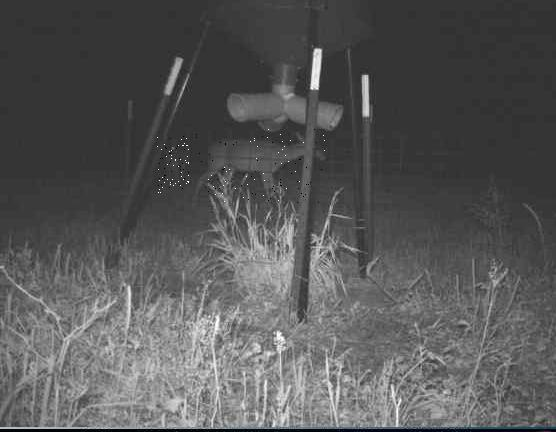Deer: (194, 130, 325, 206), (156, 136, 188, 193)
